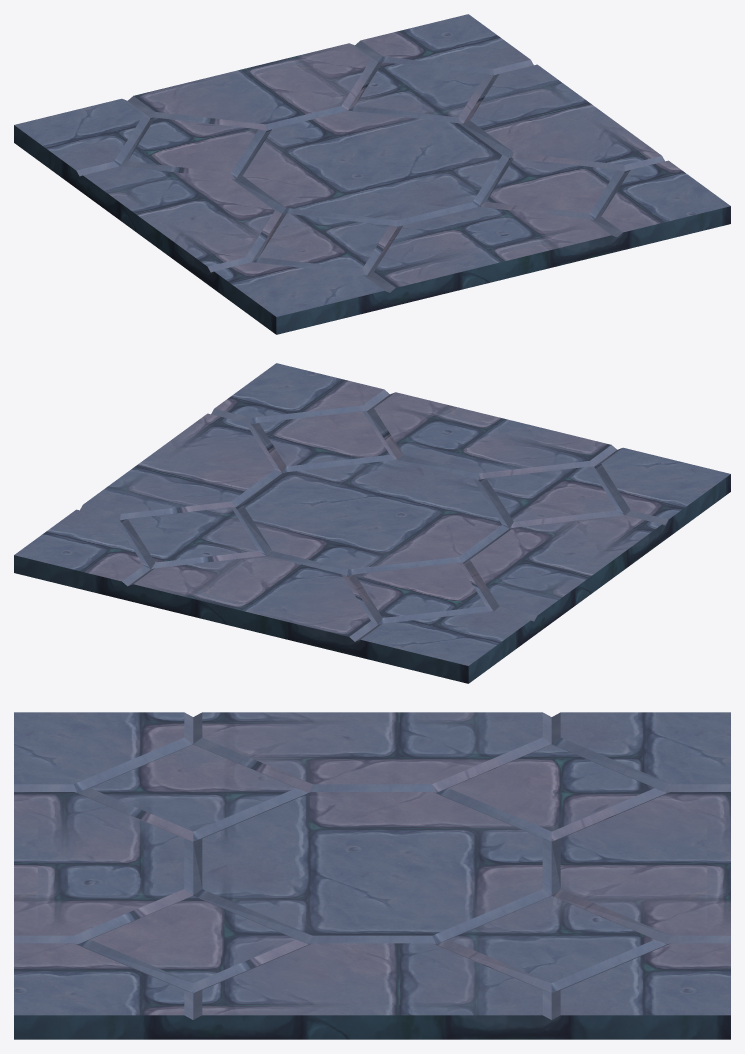
Rendered from floor_tile_large.gltf.
The picture shows the model from 3 angles, top to bottom: view 1: azimuth 30°, elevation 25°; view 2: azimuth 150°, elevation 25°; view 3: azimuth 270°, elevation 25°; orthographic projection. The views are drawn at different scales.
Parts seen in each view (by area): view 1: floor_tile_large; view 2: floor_tile_large; view 3: floor_tile_large.
Boxes of the visible parts, x1=… form: floor_tile_large: x1=14, y1=14, x2=730, y2=334; floor_tile_large: x1=14, y1=363, x2=730, y2=683; floor_tile_large: x1=14, y1=712, x2=730, y2=1039.
Size of the model in its own units: 4 by 0.15 by 4.
2 materials, 2 textured.
